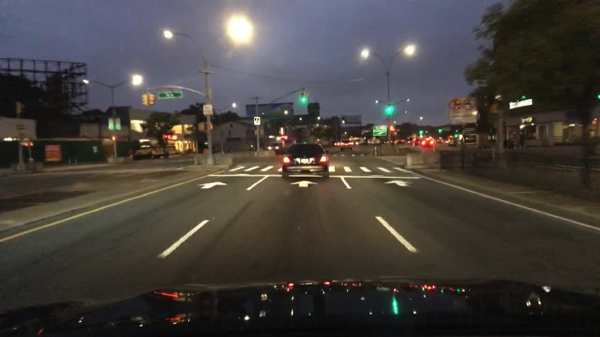car: (281, 141, 330, 179), (132, 139, 169, 162), (196, 142, 218, 154), (349, 135, 365, 146), (419, 139, 436, 149), (337, 141, 352, 152), (266, 142, 280, 150), (463, 135, 476, 143), (447, 138, 458, 147), (367, 139, 380, 145), (413, 140, 420, 147), (406, 138, 413, 145), (390, 137, 397, 144)
person: (505, 129, 515, 150), (518, 129, 525, 150)
traffic light: (147, 93, 156, 106), (384, 103, 392, 115), (197, 122, 206, 132), (299, 93, 306, 105), (141, 94, 148, 105), (304, 91, 309, 105), (438, 127, 442, 134), (454, 129, 459, 134), (419, 129, 423, 135), (451, 135, 457, 139)
traffic sign: (448, 97, 477, 126), (106, 117, 121, 132), (156, 91, 183, 99), (370, 125, 387, 137), (202, 104, 212, 116), (254, 117, 260, 125)
